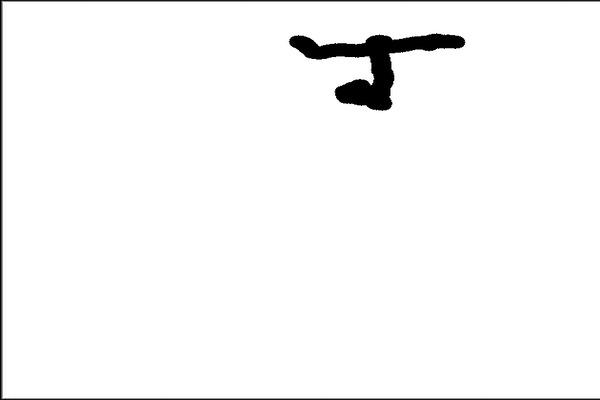J: (284, 25, 469, 116)
